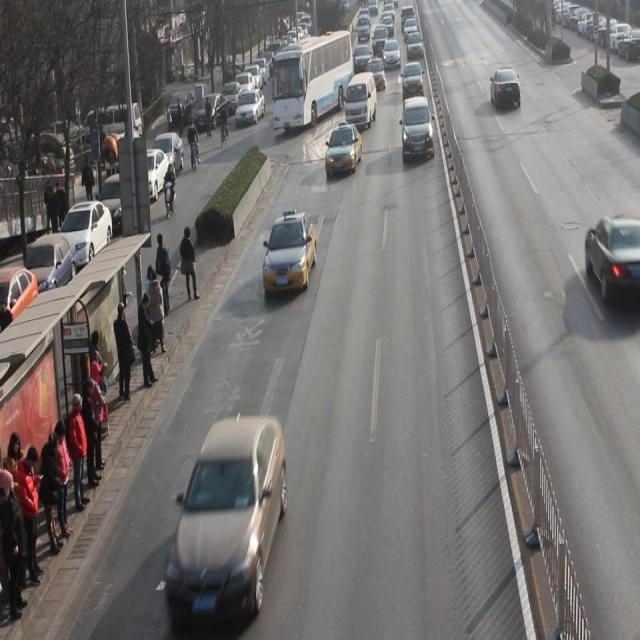car: (166, 416, 287, 612), (586, 216, 640, 309), (264, 214, 318, 297), (401, 98, 435, 162), (325, 126, 363, 178), (490, 68, 521, 111), (402, 62, 425, 101)
truck: (346, 72, 378, 128)
van: (271, 33, 353, 131)
